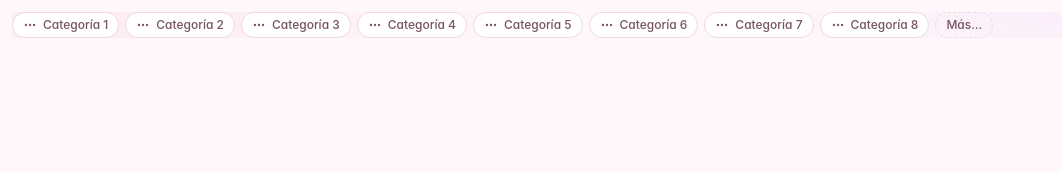
Scenario: CategoryChips › con más de ocho deja el resto tras «Más…»
Expected: the radio button labelled "Categoría 12" is not shown
Click the button "Más…". click: x=964, y=25
box: top-left (935, 12), bottom-right (993, 38)
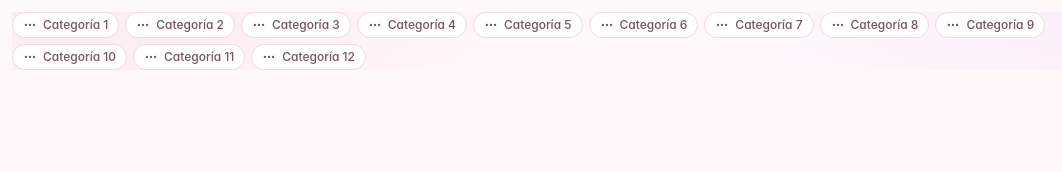
Expected: the number of radio buttons is 12
Expected: the button "Más…" is gone
